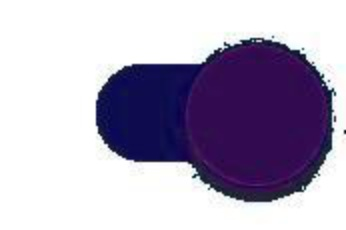Switch: (1, 1, 345, 229)
